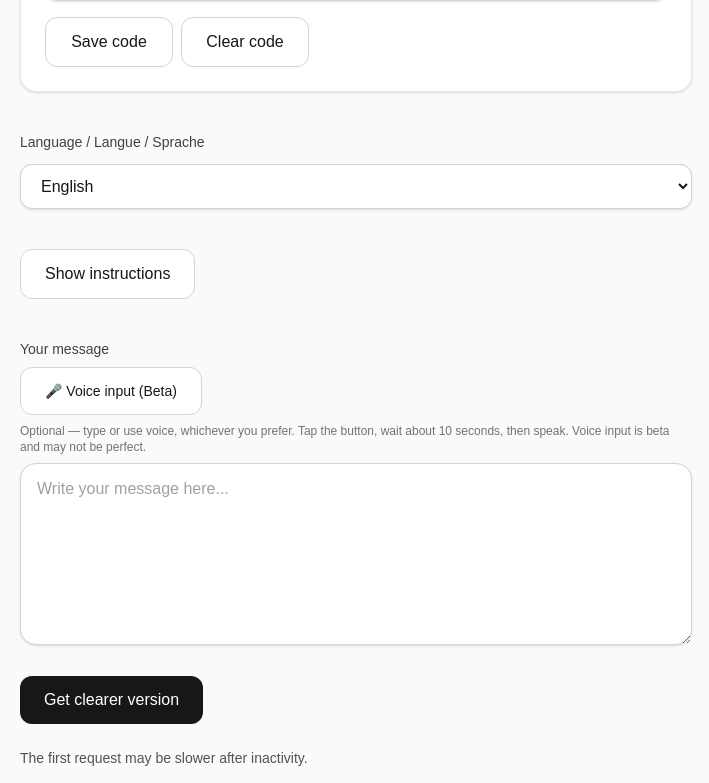
Test case: Dictation frontend behavior › A. successful transcription updates textarea and shows success notice
The width and height of the screenshot is (709, 783).
(page scrolled)
Click the button "🎤 Voice input (Beta)" at {"x": 111, "y": 391}, box [20,367,202,415]
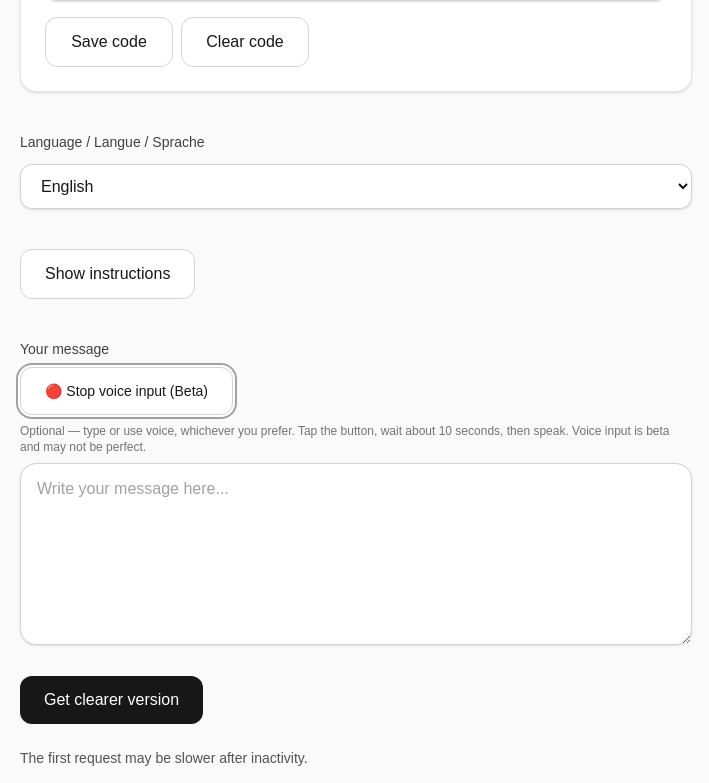
Click the button "🔴 Stop voice input (Beta)" at {"x": 126, "y": 391}, box [20,367,233,415]
(page scrolled)
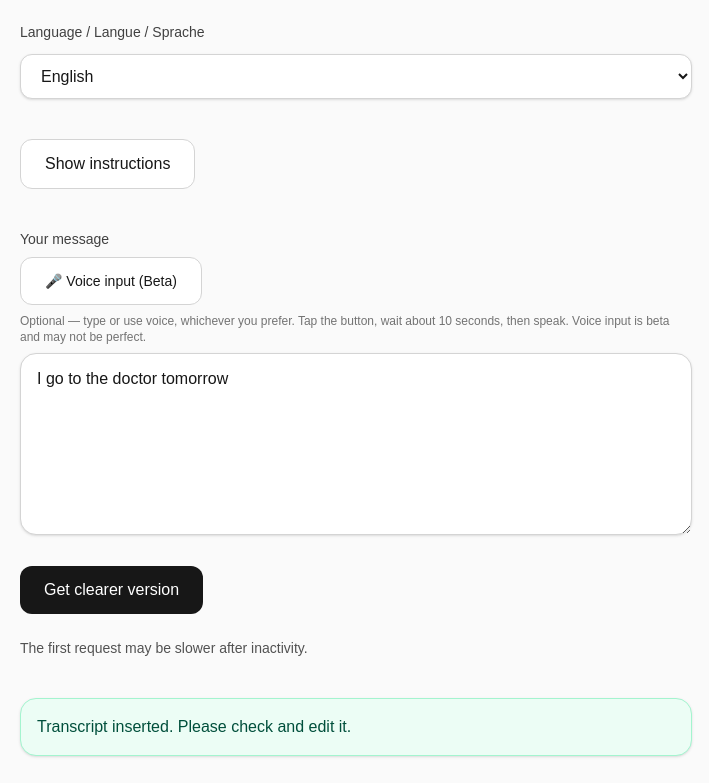
Result: the text box labelled "Your message" holds "I go to the doctor tomorrow" at [20,353,692,535]
Result: the text "Transcript inserted. Please check and edit it." is shown at [20,698,692,756]
